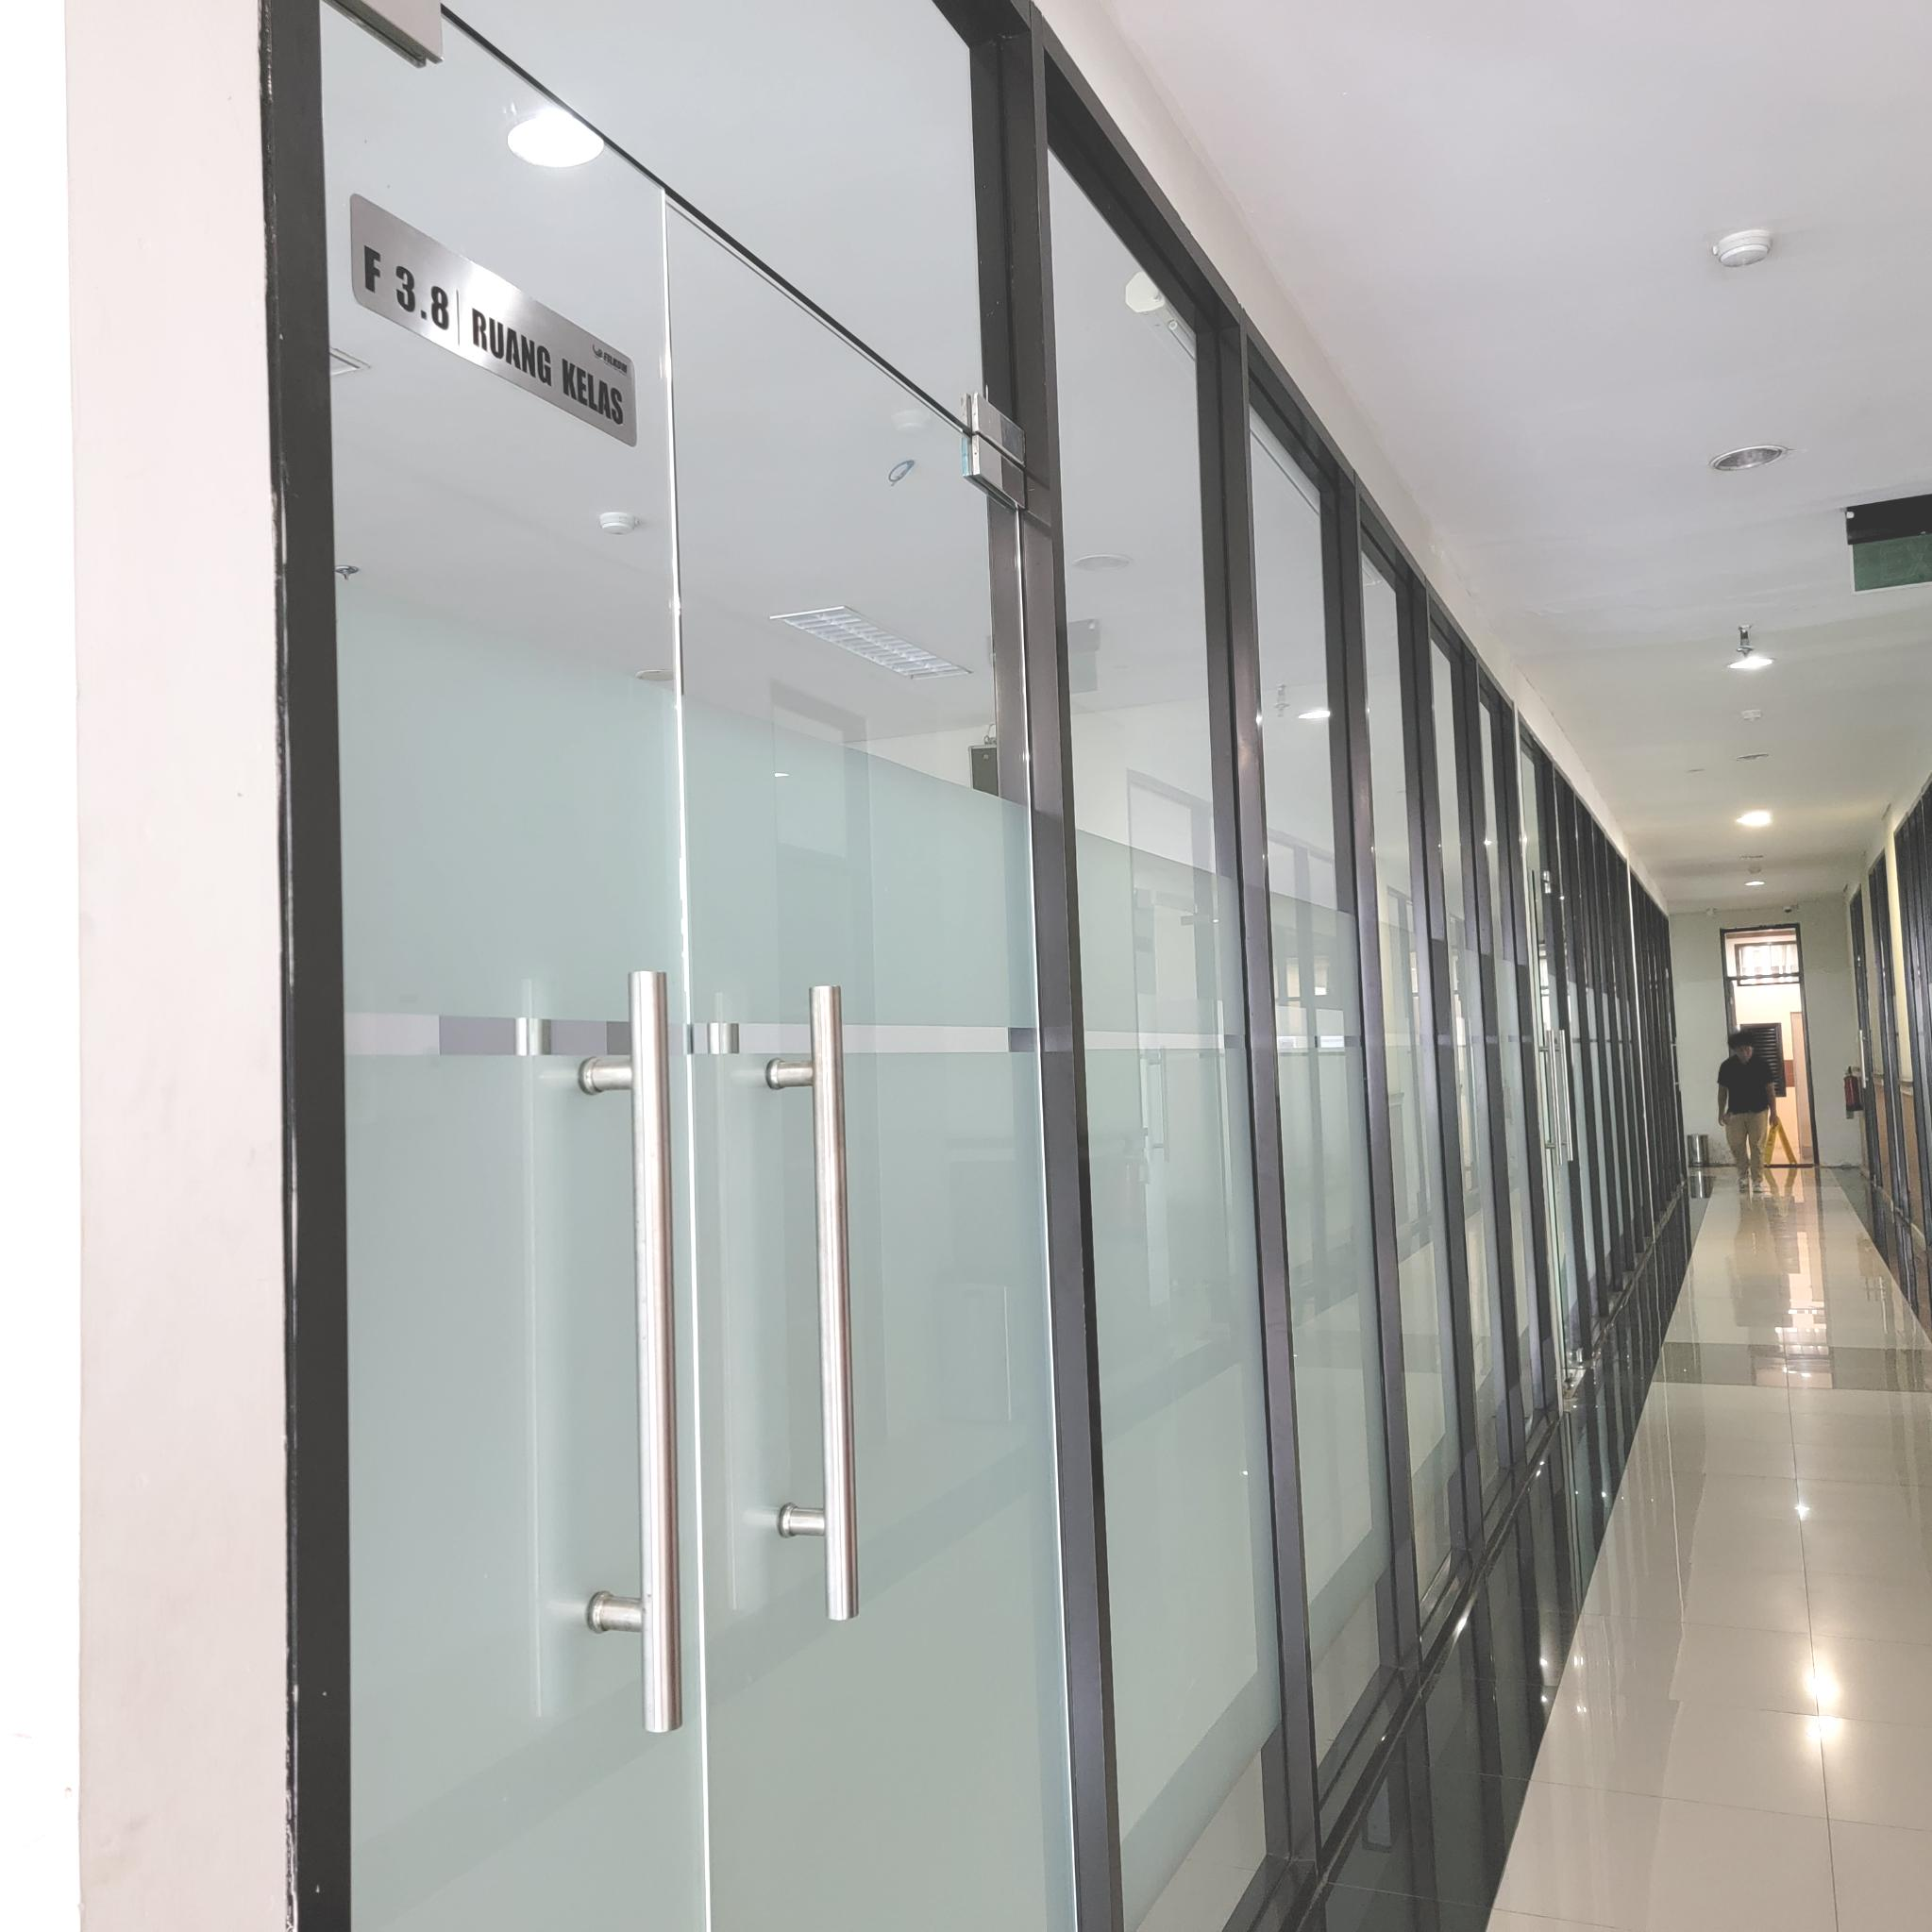plate: (352, 189, 639, 448)
